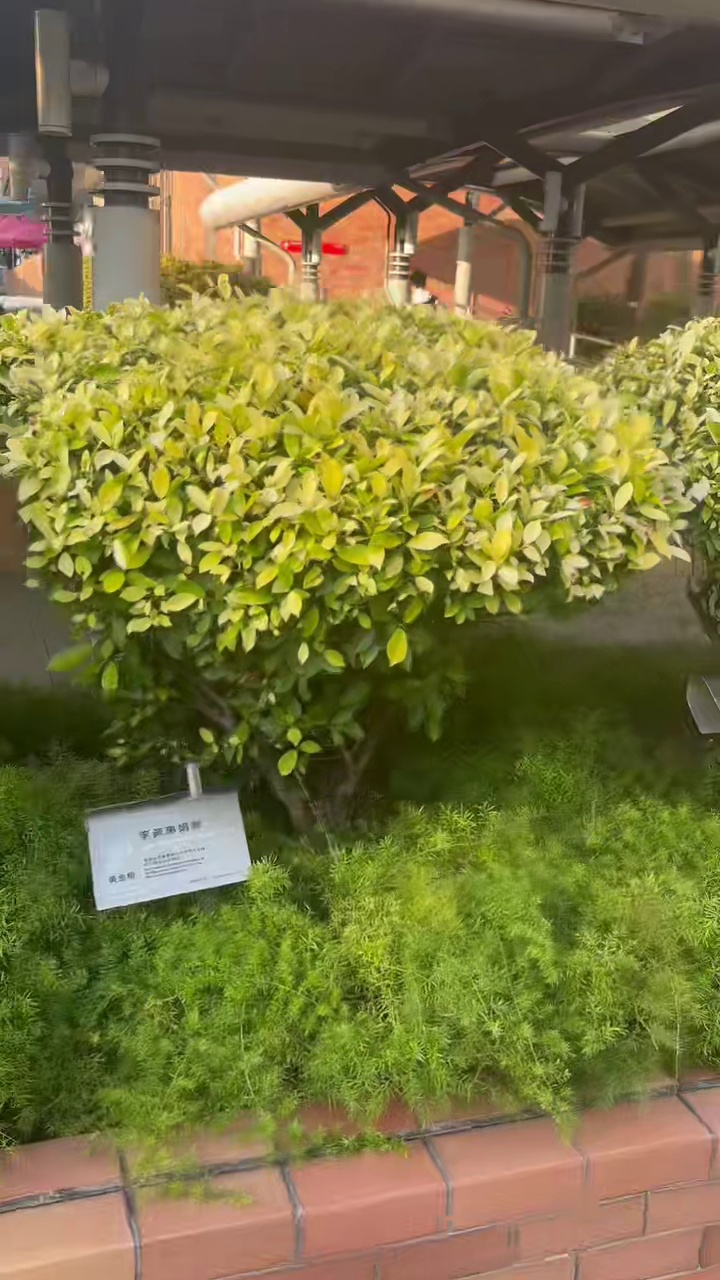Golden-leaves Fig: (2, 289, 688, 825)
